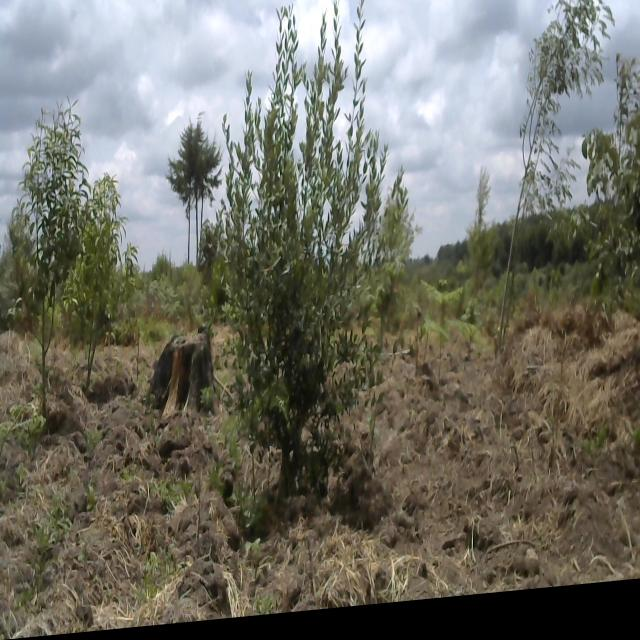Lemon Myrtle: (17, 81, 82, 394), (66, 169, 133, 388)
Salix alba: (235, 0, 441, 549)
cedrus: (193, 123, 224, 305), (464, 153, 492, 347), (167, 122, 197, 290)
